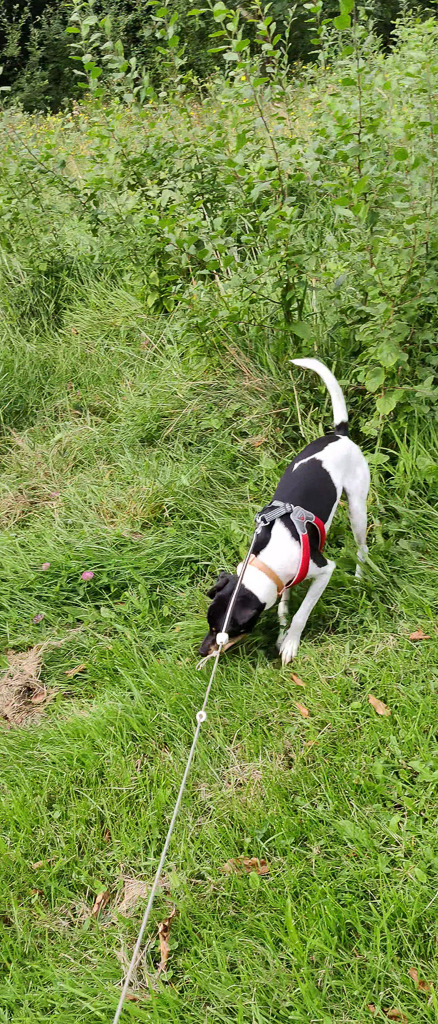Dog: (181, 349, 383, 680)
